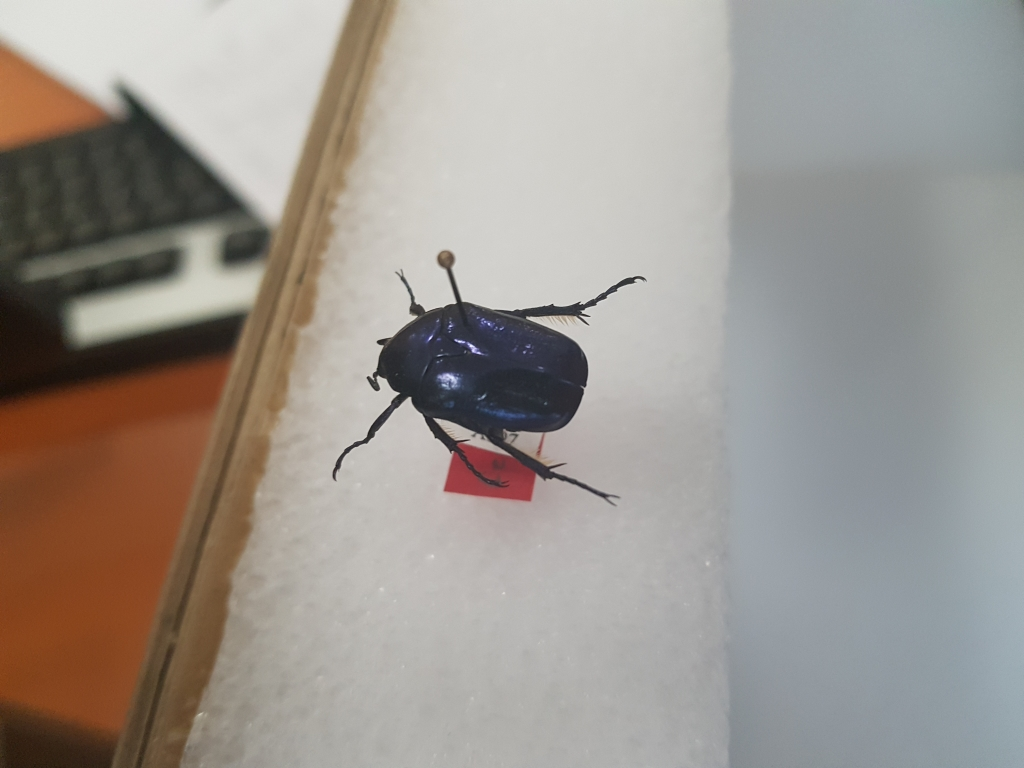Protaetia_besucheti: (321, 259, 669, 515)
